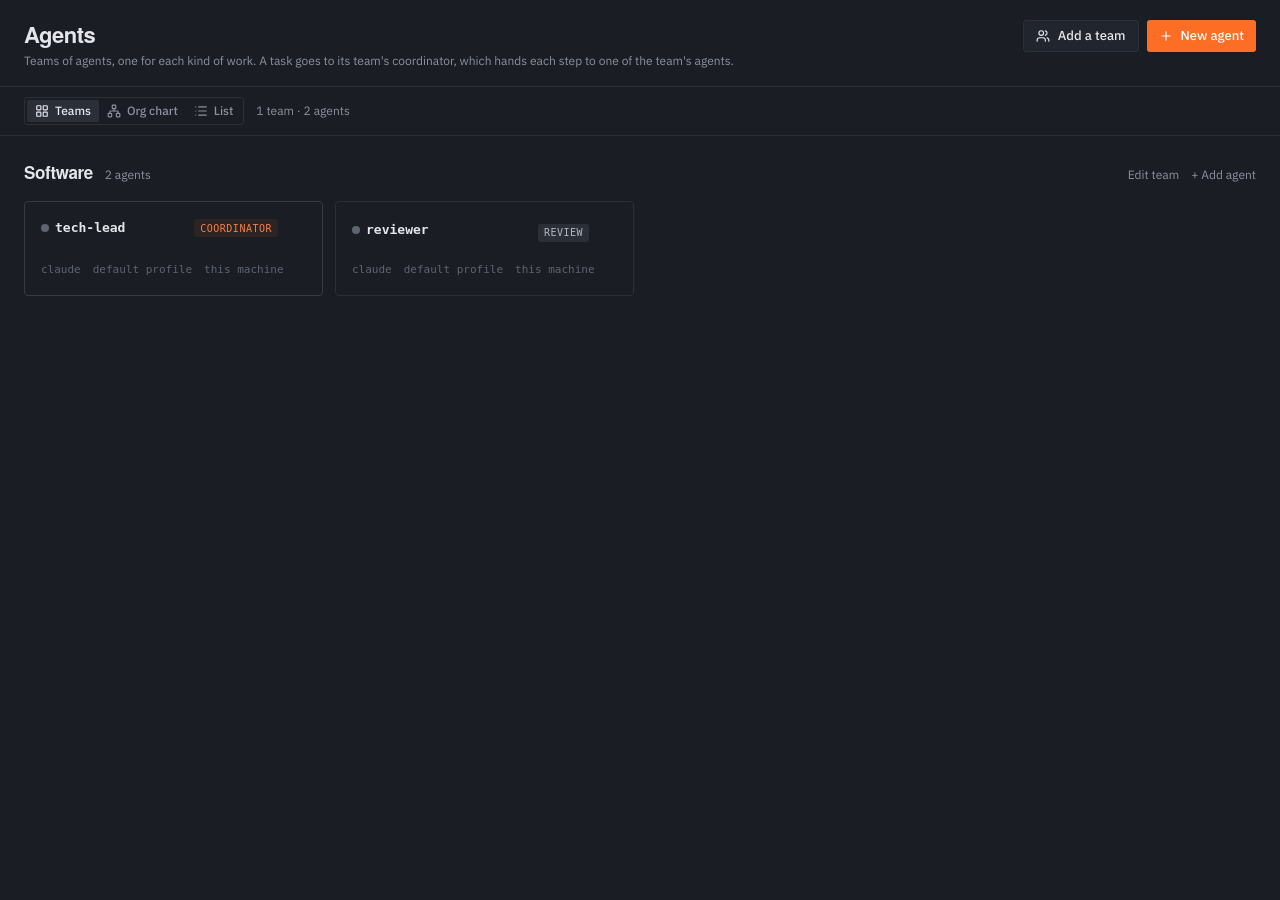
New team: Blank › Build a team in Add a team opens the panel with one coordinator
The image size is (1280, 900).
Click the button "Add a team".
click(1081, 36)  # box [1023,20,1139,52]
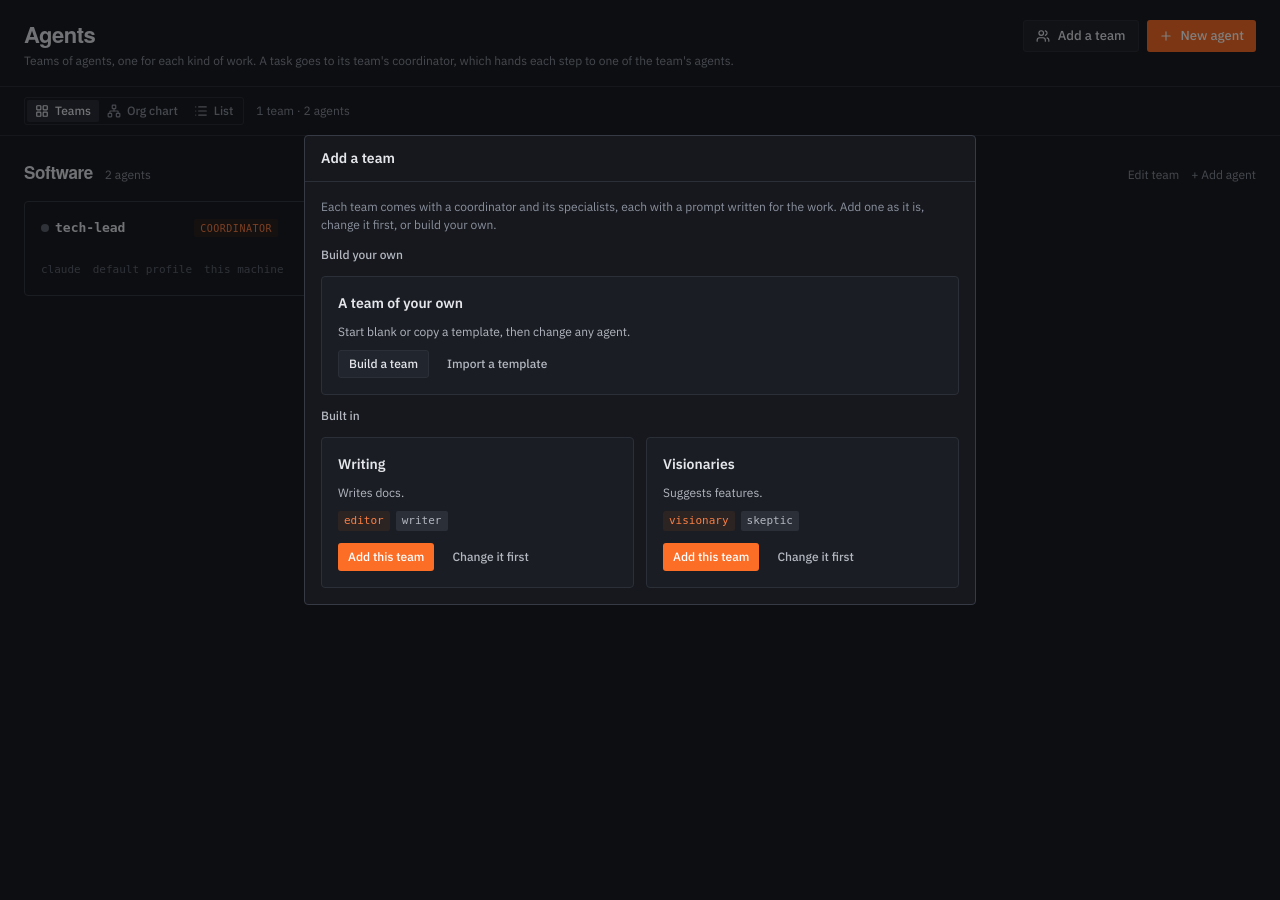
Click the button "Build a team".
click(384, 364)  # box [338,350,429,378]
(page scrolled)
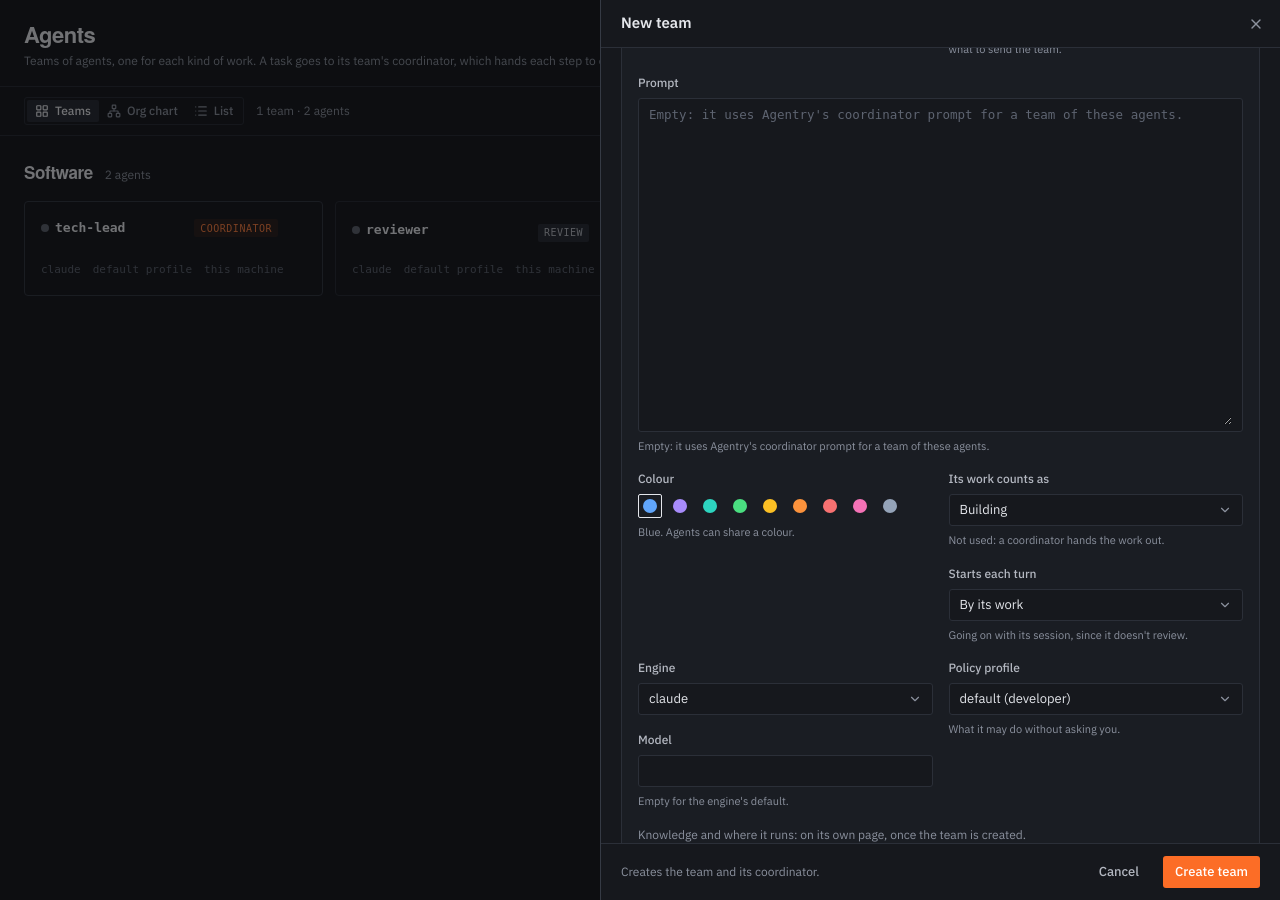
Now the text labelled "template" is gone
Now the text "Creates the team and its coordinator." is shown, box [621,863,820,881]
Now the text "Empty: it uses Agentry's coordinator prompt for a team of these agents." is shown, box [638,438,989,452]
